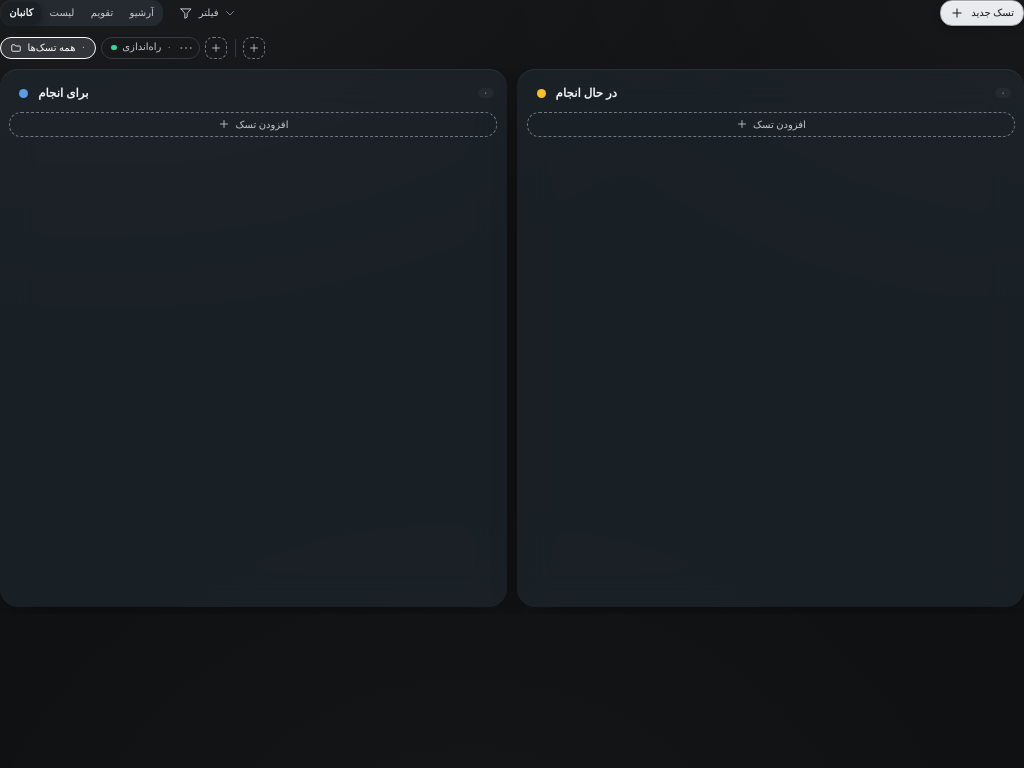
Test: the archive keeps up with its own writes (2026-09-05) › a row whose task is already gone SAYS so — and leaves
Step 1. Click the button "آرشیو" → [142, 13], box [122,2,161,24]
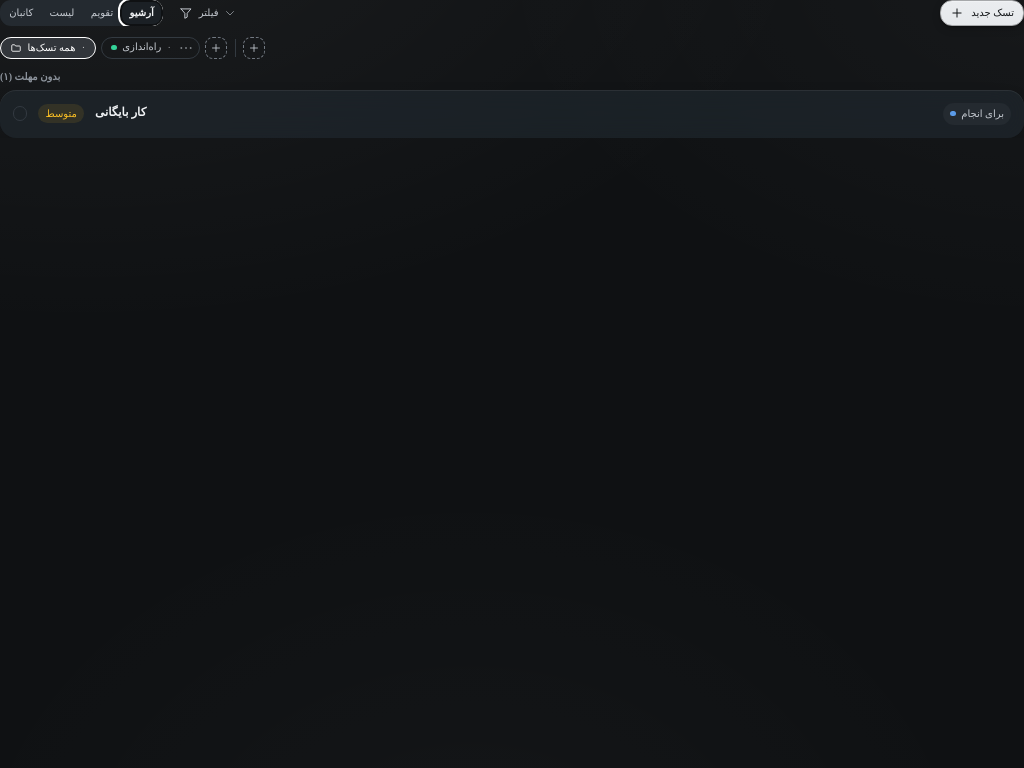
Check: the text "کار بایگانی" is shown
Step 2. Click the text "کار بایگانی" → [121, 112], box [95,105,146,119]
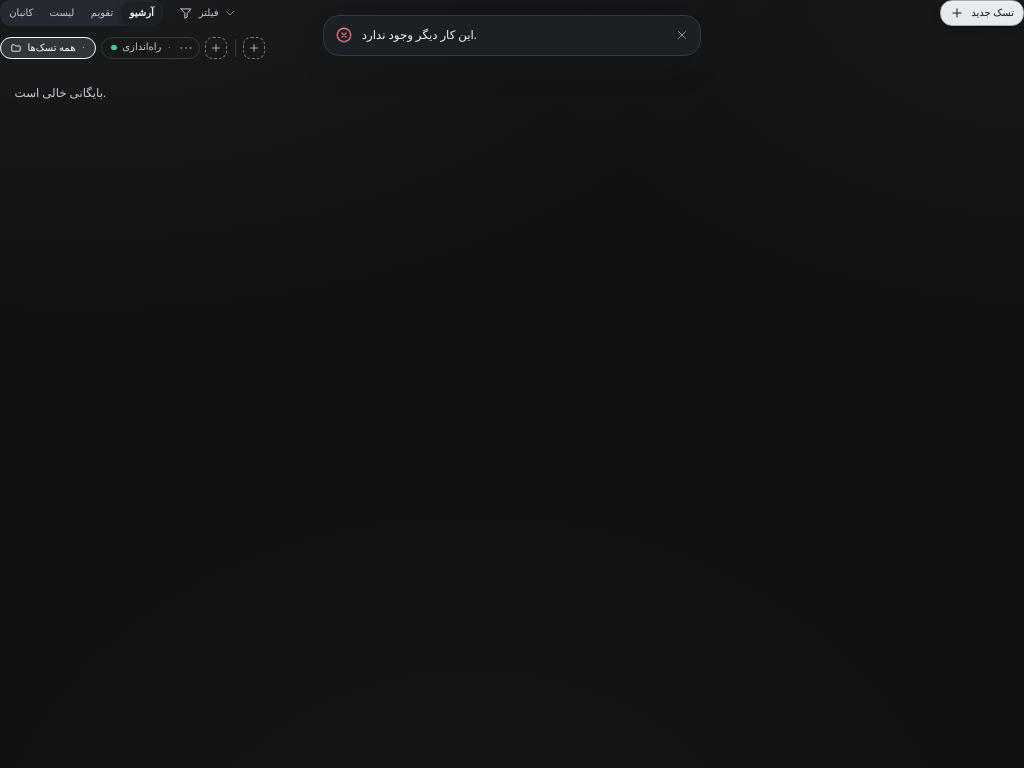
Check: the message reads "این کار دیگر وجود ندارد.", box [362,28,477,42]
Check: the button "کار بایگانی" is gone
